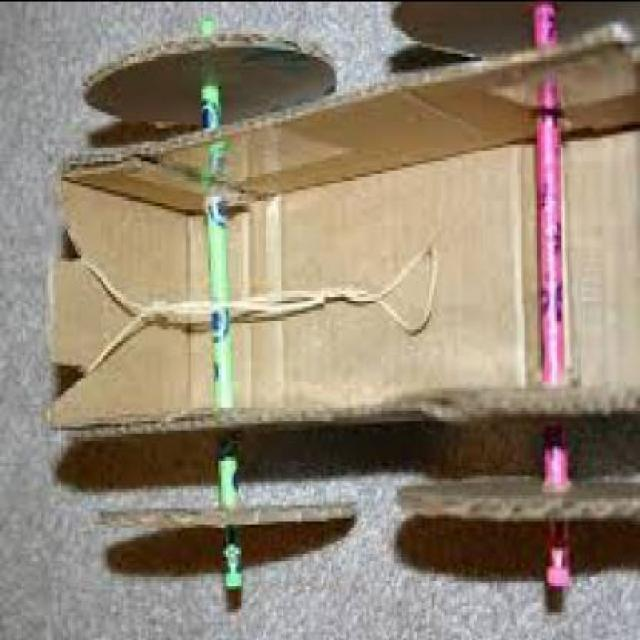box: (46, 26, 639, 442), (72, 40, 337, 131), (385, 3, 639, 62), (394, 471, 637, 517), (91, 497, 357, 537)
